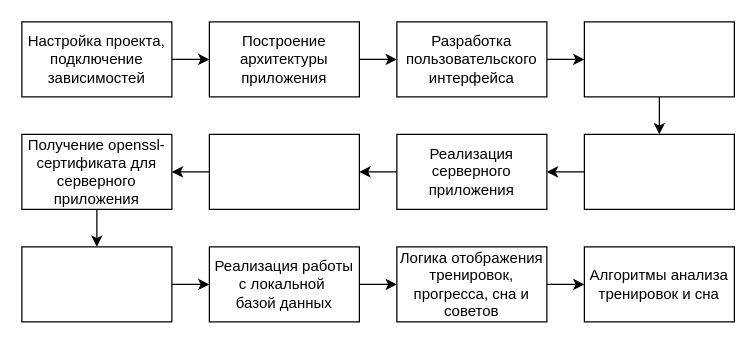
This 756x344 diagram has some shape labels left out. Here are the shapes that lost their labels. From the top down, the centre of each, then its label:
point 658,59: Р еализация навигации
point 283,171: Проверка HTTP-запросов к серверному приложению
point 658,171: Добавление сущностей
point 96,284: Реализация синхронизации с сервером
